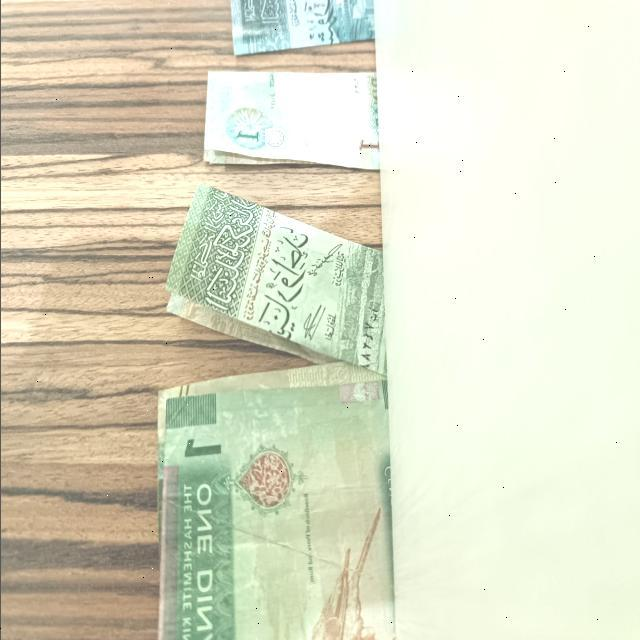1-dinar: (151, 367, 391, 640), (165, 190, 387, 374), (202, 64, 379, 180)
20-dinar: (229, 0, 377, 59)
